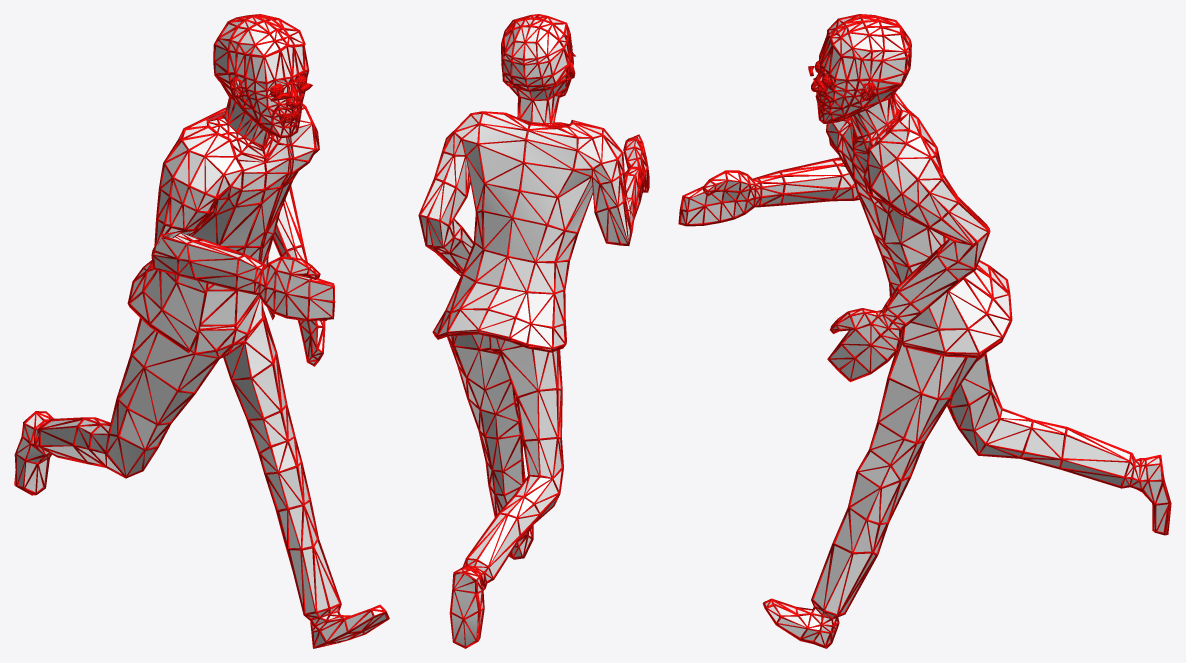
Rendered from elegantRun_000016.obj.
The picture shows the model from 3 angles, left to right: view 1: azimuth 30°, elevation 25°; view 2: azimuth 150°, elevation 25°; view 3: azimuth 270°, elevation 25°; orthographic projection. The views are drawn at different scales.
Visible parts, largest first — view 1: BaseHuman_Cylinder.002; view 2: BaseHuman_Cylinder.002; view 3: BaseHuman_Cylinder.002.
Part boxes in pixels (x1,y1,x2,y2): BaseHuman_Cylinder.002: (14, 14, 389, 648); BaseHuman_Cylinder.002: (418, 14, 649, 648); BaseHuman_Cylinder.002: (678, 14, 1171, 648).
Bounding box in the file's own units: 1.5 × 4.69 × 3.46.
